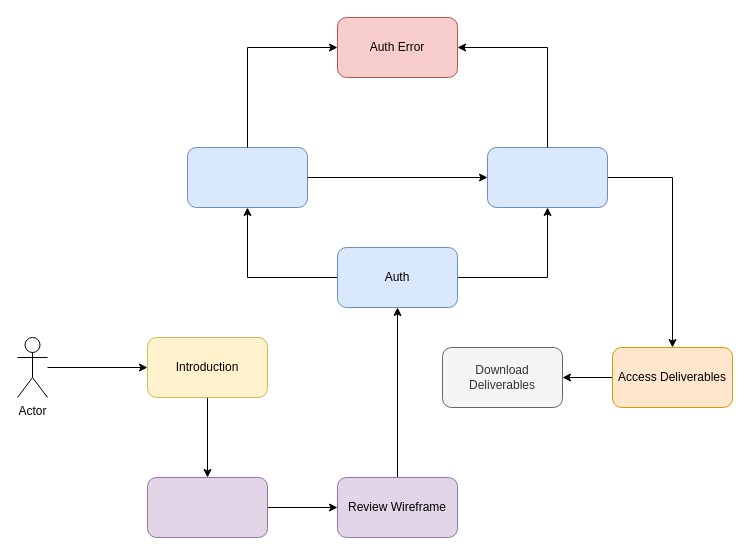
This 750x555 diagram has some shape labels left out. Here are the shapes that lost their labels. From the top down, the box of each, then its label:
(186, 146, 308, 208): Register
(486, 146, 608, 208): Login
(146, 476, 268, 538): Upload Image
